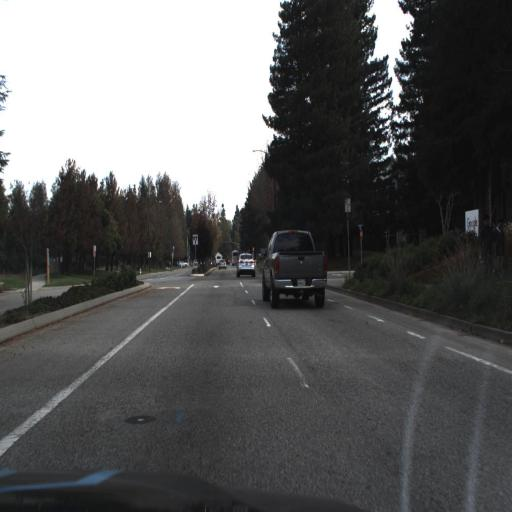car: (258, 229, 326, 313), (236, 249, 256, 280)
